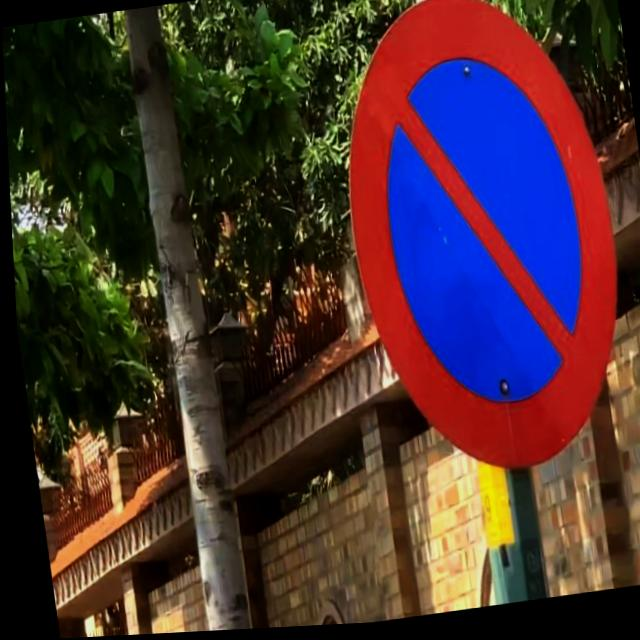Cam do xe: (319, 0, 640, 497)
